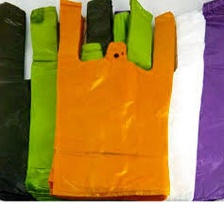plastic_bag: (20, 0, 158, 202), (49, 0, 179, 203), (0, 0, 124, 204), (190, 0, 224, 205)
